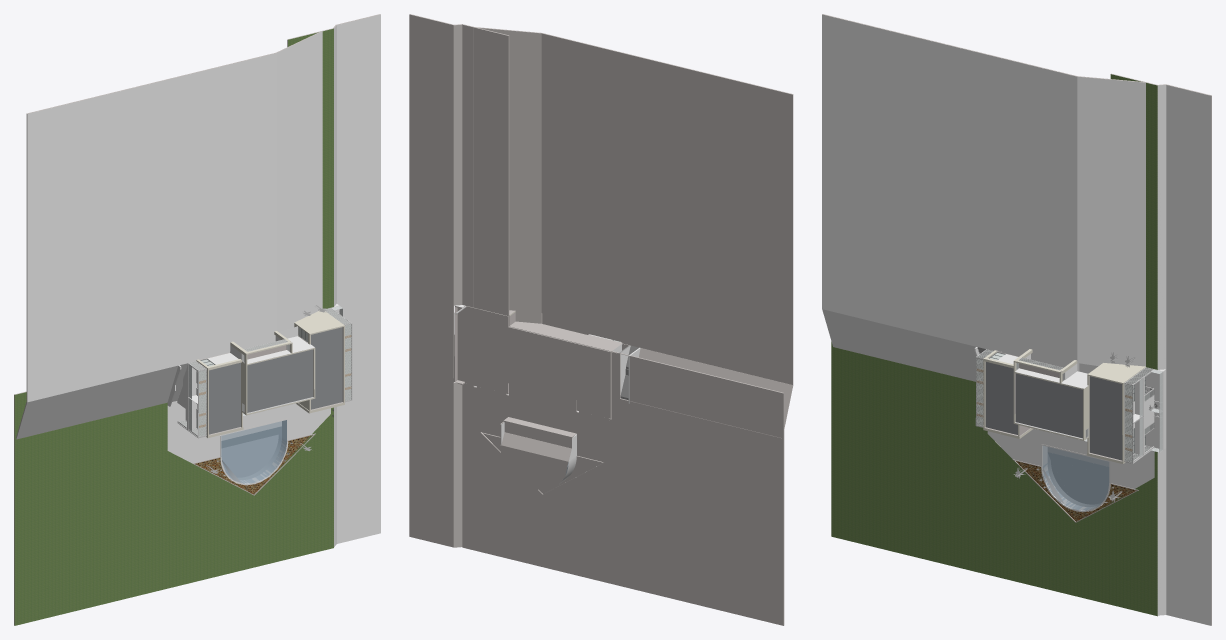
File: villa3_low.glb
3 views of the same model, side by side, from view 1: azimuth 30°, elevation 25°; view 2: azimuth 150°, elevation 25°; view 3: azimuth 330°, elevation 25° (orthographic). The views are drawn at different scales.
Visible parts, largest first — view 1: Obj.10212:1, Obj.10237:1, Obj.10658:1, Obj.23264, Obj.10231, Obj.10237, Obj.10230:3, Obj.23493, Obj.23327:1; view 2: Obj.10237, Obj.10212:1; view 3: Obj.10212:1, Obj.10237:1, Obj.10658:1, Obj.23264, Obj.10231, Obj.10230:3, Obj.10237, Obj.23493, Obj.23327:1, Obj.24908:4.
Part boxes in pixels (left/top/right/bottom): Obj.10212:1: left=16, top=14, right=380, bottom=546; Obj.10237:1: left=14, top=28, right=333, bottom=625; Obj.10658:1: left=209, top=327, right=342, bottom=434; Obj.23264: left=220, top=420, right=286, bottom=483; Obj.10231: left=196, top=310, right=344, bottom=437; Obj.10237: left=14, top=14, right=380, bottom=625; Obj.10230:3: left=177, top=308, right=352, bottom=438; Obj.23493: left=180, top=308, right=351, bottom=436; Obj.23327:1: left=195, top=435, right=311, bottom=494; Obj.10237: left=409, top=14, right=793, bottom=625; Obj.10212:1: left=455, top=305, right=640, bottom=444; Obj.10212:1: left=822, top=14, right=1211, bottom=625; Obj.10237:1: left=831, top=74, right=1157, bottom=616; Obj.10658:1: left=985, top=362, right=1122, bottom=460; Obj.23264: left=1042, top=446, right=1110, bottom=510; Obj.10231: left=983, top=349, right=1145, bottom=463; Obj.10230:3: left=975, top=349, right=1154, bottom=463; Obj.10237: left=822, top=14, right=1211, bottom=625; Obj.23493: left=976, top=350, right=1153, bottom=462; Obj.23327:1: left=1016, top=461, right=1136, bottom=521; Obj.24908:4: left=1084, top=369, right=1162, bottom=456.
Bounding box in the file's own units: 65.19 × 87.71 × 11.43.
36 materials, 9 textured.
